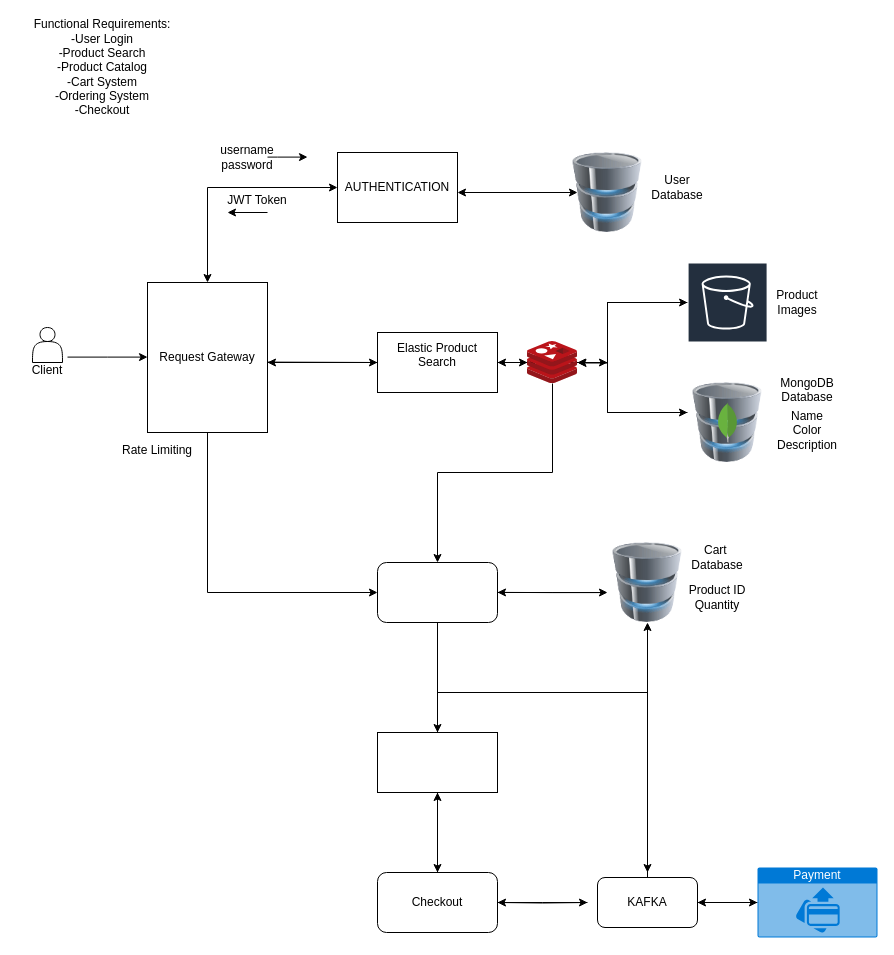
The diagram is 894 pixels wide and 955 high, and some of its shapes have lost their labels. The centre of each missing label's shape, as x and y in pixels:
"Amazon S3" goes at pixel 727 312.
"CART" goes at pixel 437 592.
"Order" goes at pixel 437 762.
